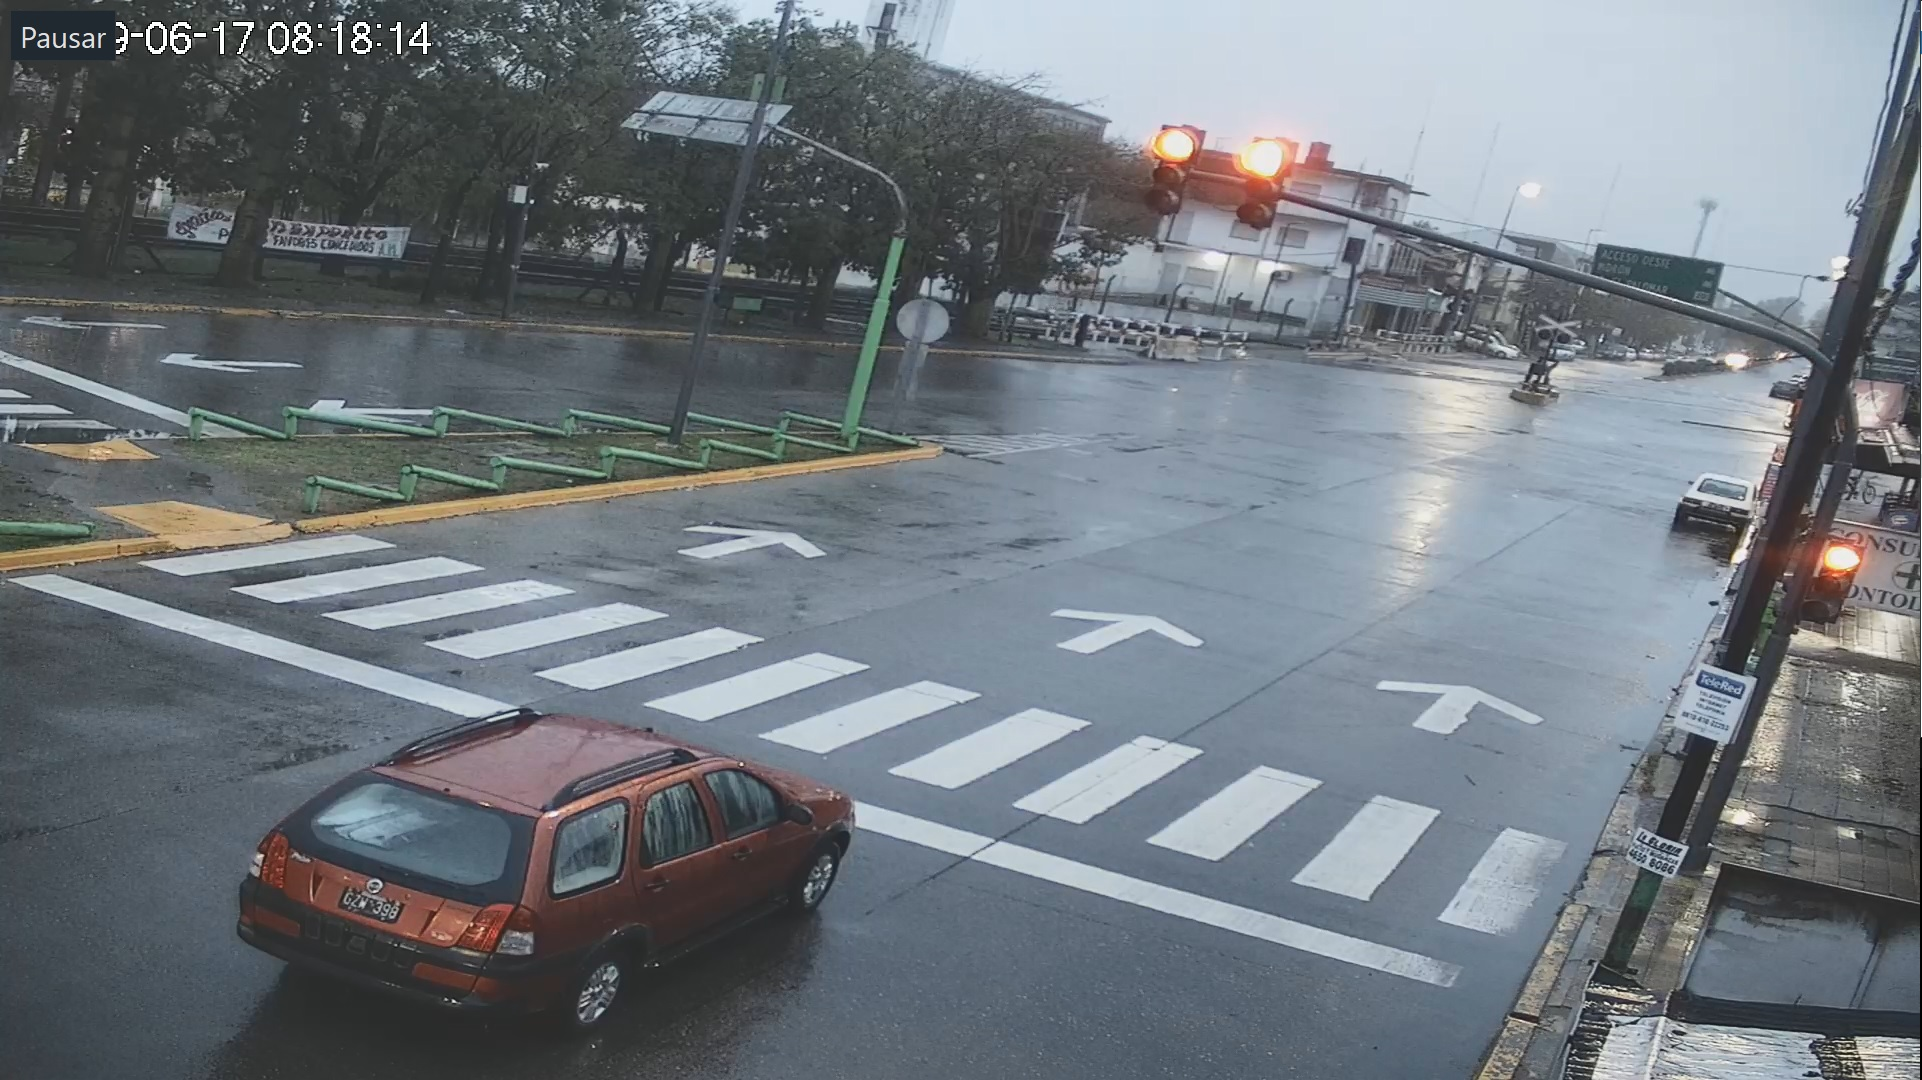car: (234, 702, 854, 1027)
